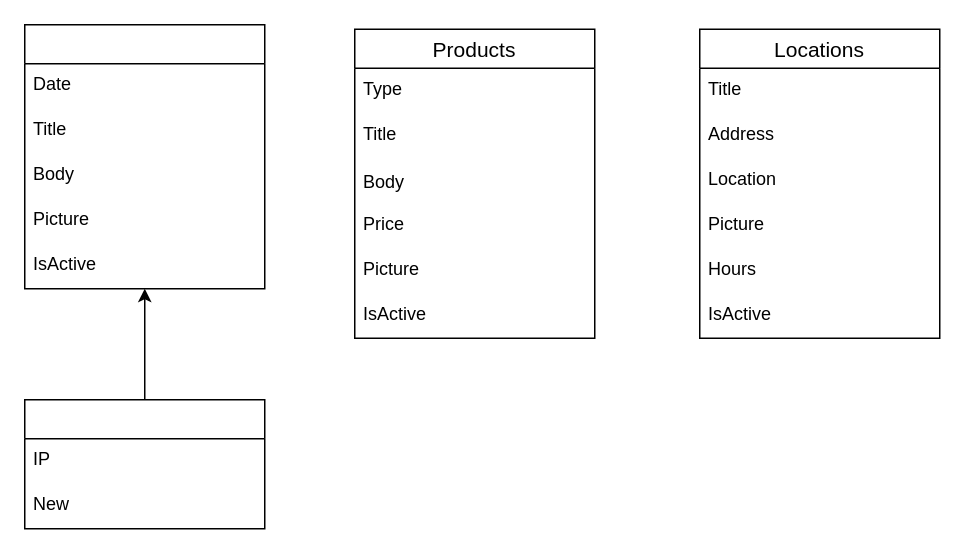
Image size: 965x554. Some labels were removed from this diagram. Each missing label, with the box of its shape:
BulletinItem: (23, 23, 265, 289)
Likes: (23, 398, 265, 529)
